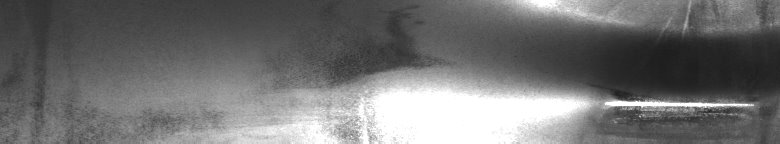ke: (556, 4, 776, 128)
